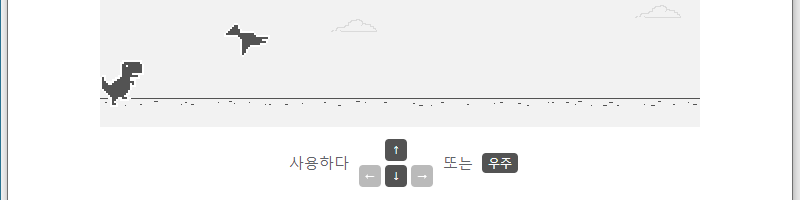dinosaur: (101, 59, 143, 106)
obstacle: (226, 25, 269, 57)
